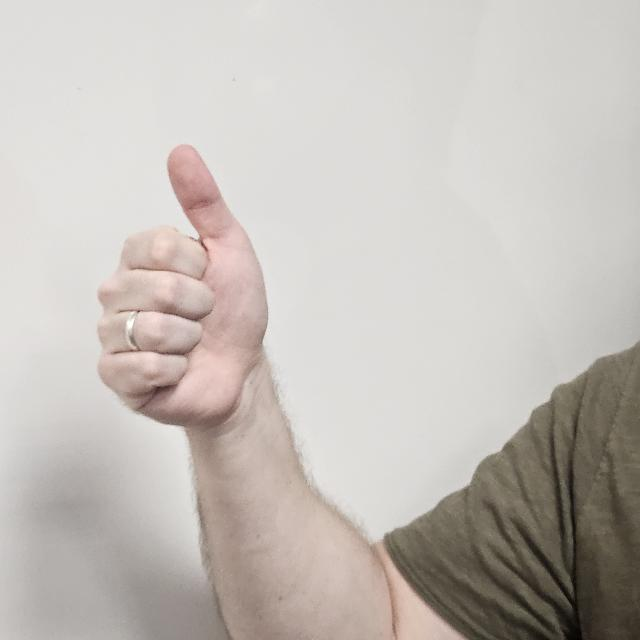Start: (88, 144, 292, 458)
